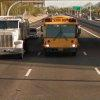Bus: (36, 10, 88, 62)
